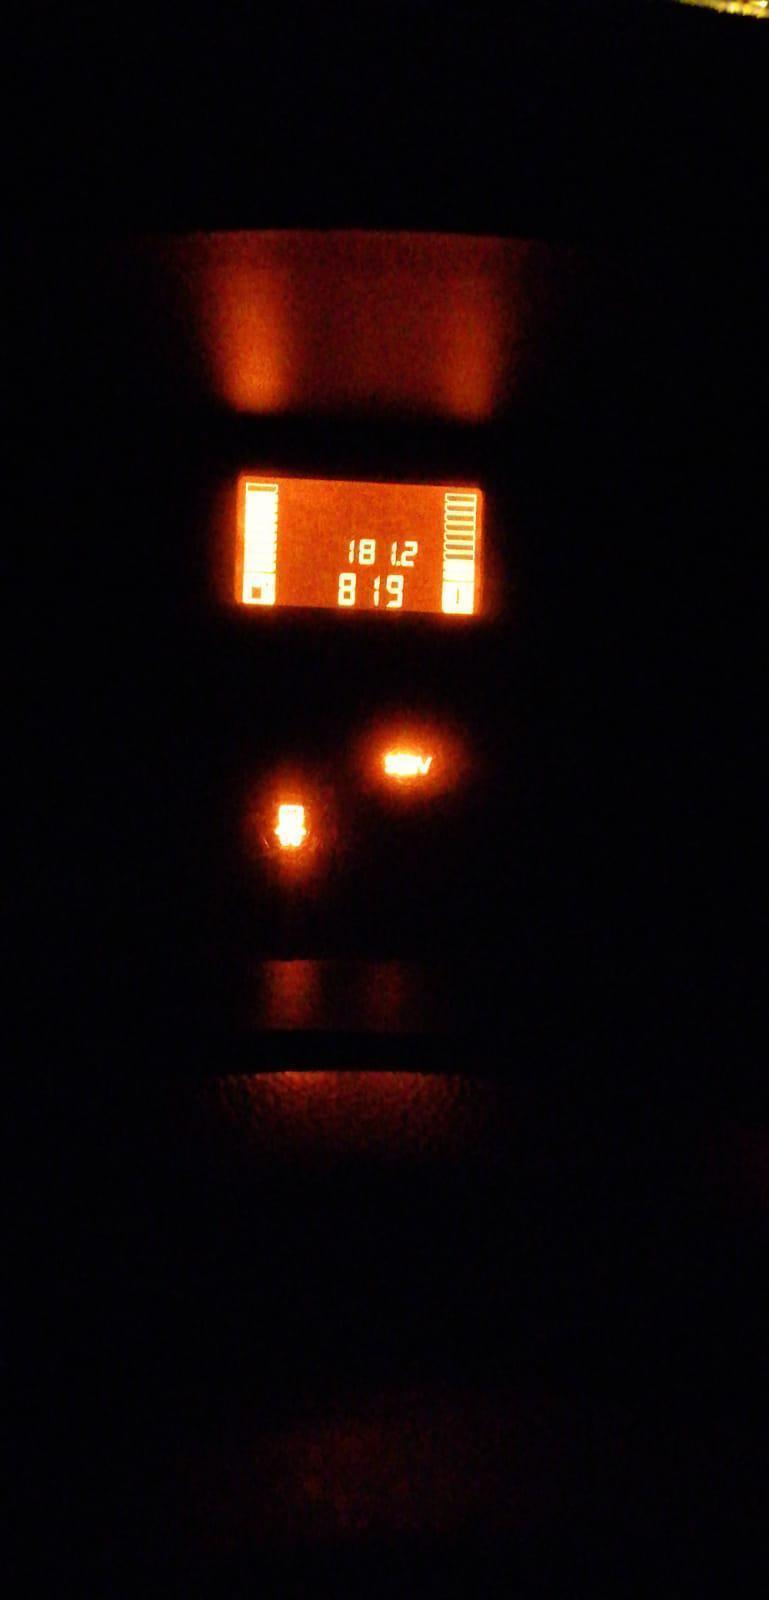,: (395, 560, 400, 567)
1: (372, 574, 380, 607), (389, 540, 398, 567), (347, 538, 355, 564)
2: (400, 540, 418, 567)
8: (336, 572, 356, 606), (357, 538, 376, 565)
9: (385, 574, 404, 608)
odometer: (230, 473, 486, 619)
